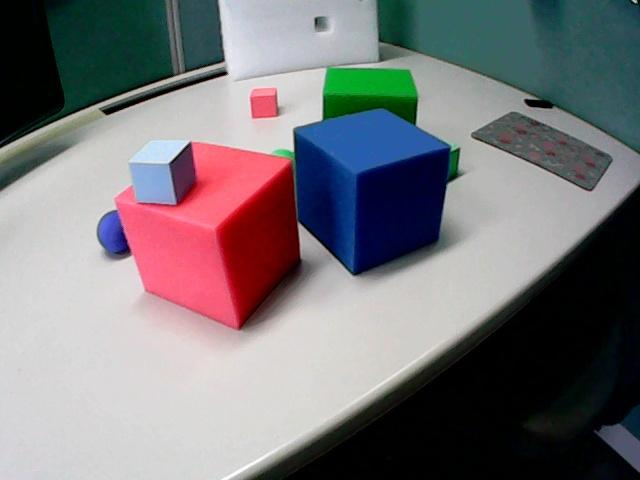blue_block: (294, 109, 449, 273), (129, 140, 195, 204)
red_block: (115, 143, 299, 328), (250, 87, 277, 117)
